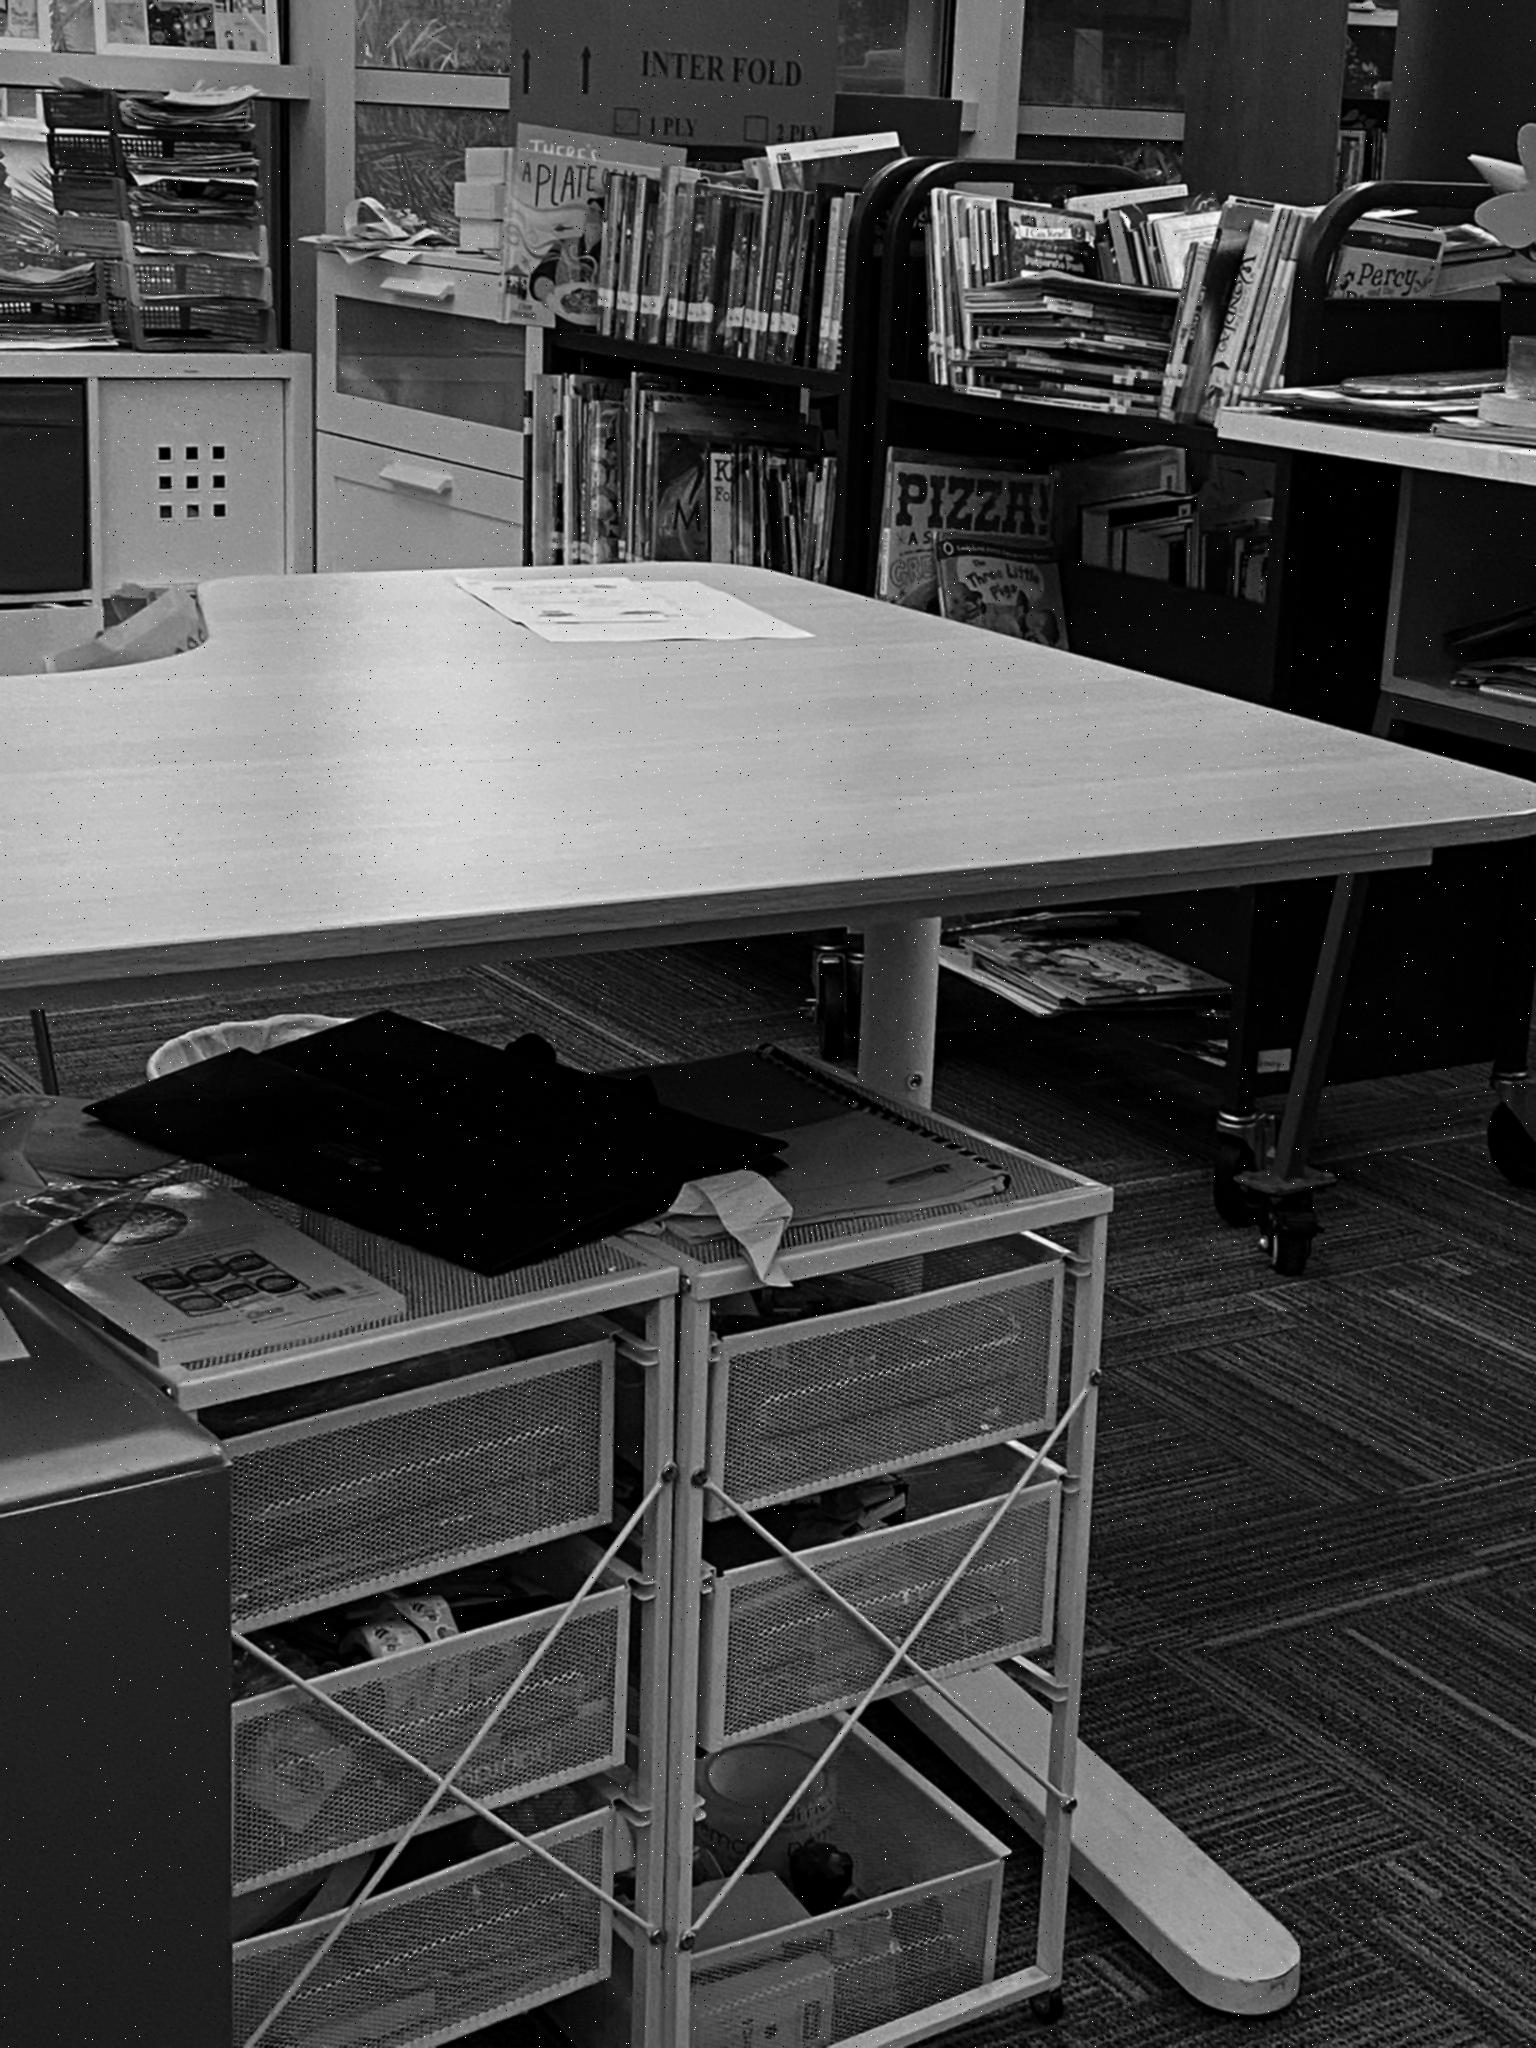Table: (0, 566, 1534, 1100)
